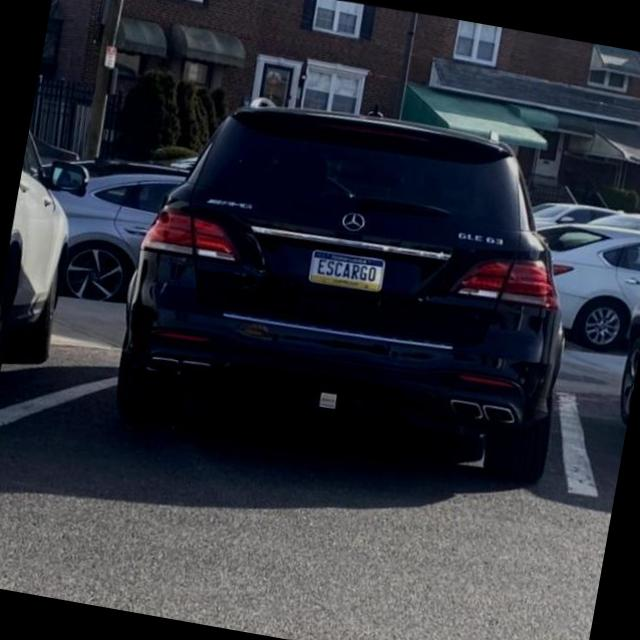LicensePlate: (305, 246, 384, 289)
